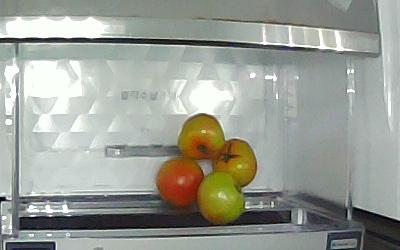tomato: (197, 172, 244, 223), (157, 158, 204, 207), (212, 138, 258, 188), (178, 113, 224, 160)
